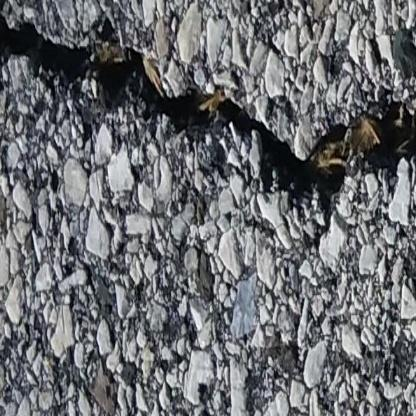Cracks: (0, 4, 416, 252)
